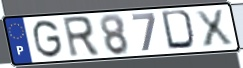7: (129, 11, 159, 54)
8: (99, 12, 131, 57)
D: (159, 8, 199, 52)
G: (32, 18, 65, 60)
R: (60, 15, 102, 60)
X: (193, 8, 236, 49)
